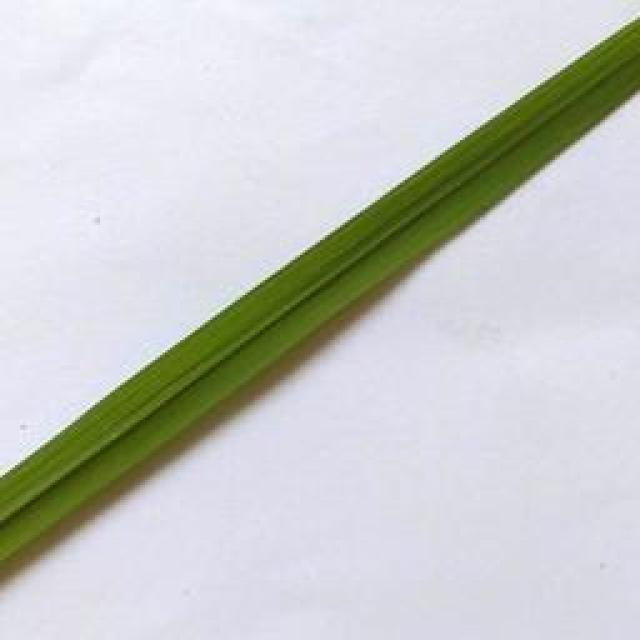Healthy-Plant: (0, 13, 640, 564)
